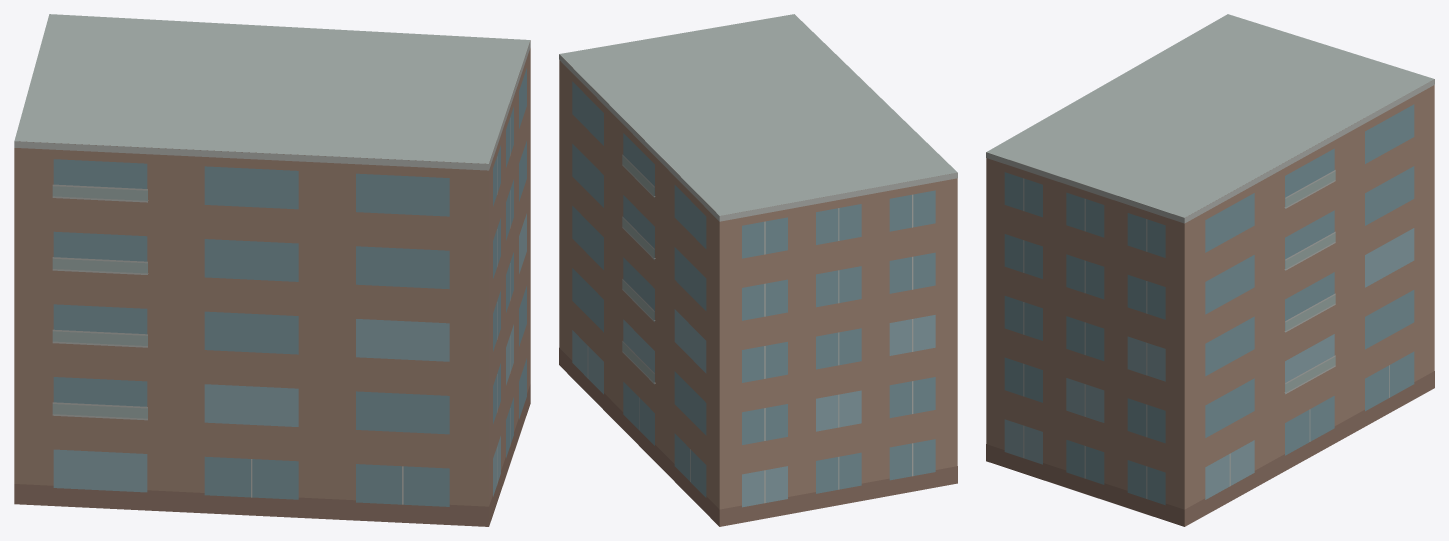
File: survey-upis-32578555.glb
The picture shows the model from 3 angles, left to right: view 1: azimuth 30°, elevation 25°; view 2: azimuth 150°, elevation 25°; view 3: azimuth 270°, elevation 25°; orthographic projection. The views are drawn at different scales.
Parts seen in each view (by area): view 1: survey-upis-32578555.tmp; view 2: survey-upis-32578555.tmp; view 3: survey-upis-32578555.tmp.
Boxes of the visible parts, bbox=[...] form: survey-upis-32578555.tmp: bbox=[14, 14, 530, 526]; survey-upis-32578555.tmp: bbox=[559, 14, 957, 526]; survey-upis-32578555.tmp: bbox=[986, 14, 1434, 526].
Bounding box in the file's own units: 18.83 × 13.3 × 17.51.
